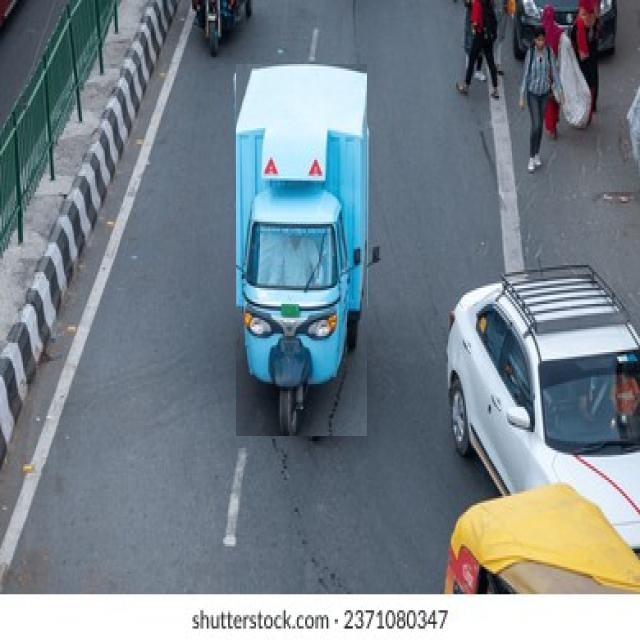autorickshaw: (236, 65, 367, 436)
car: (446, 266, 640, 549)
